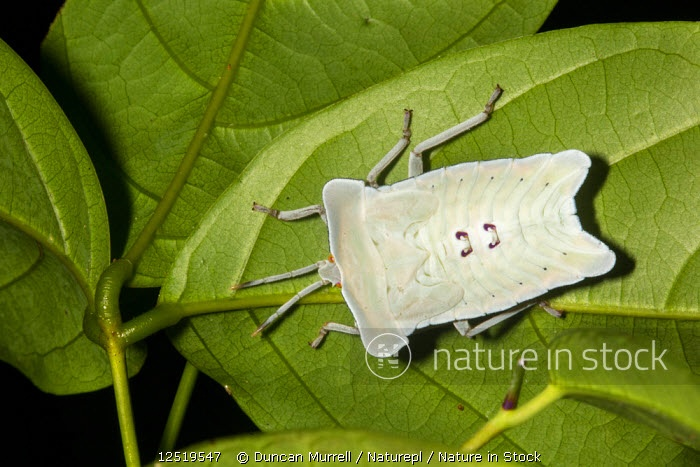Stink_Bug: (262, 158, 610, 347)
